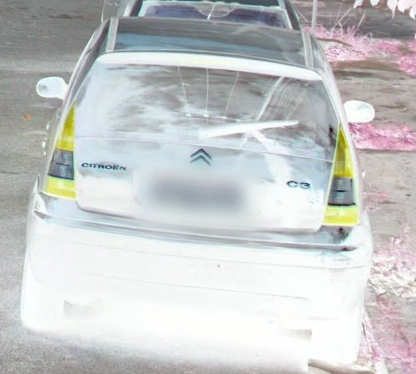car: (24, 17, 375, 362)
